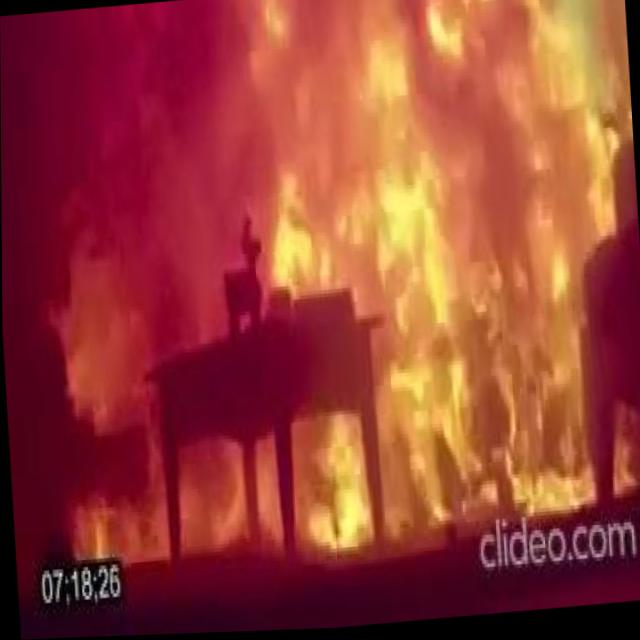fire: (362, 185, 595, 534), (244, 0, 468, 298), (456, 0, 639, 245), (59, 227, 156, 436), (289, 419, 369, 547), (77, 485, 170, 565), (179, 446, 246, 556), (253, 437, 284, 554)
